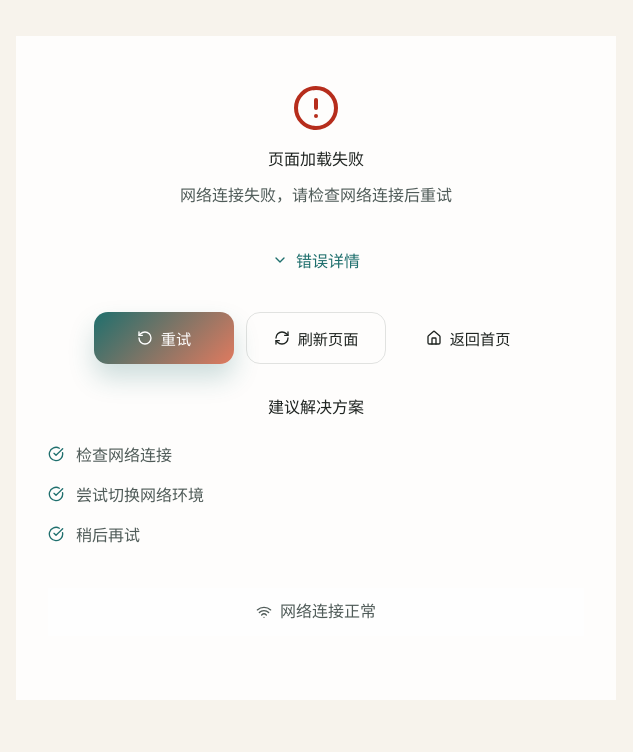
Test case: ModuleLoadErrorPage › Error Details › should toggle details content when clicked
The image size is (633, 752).
// Click to show
Click the button with class "module-load-error-page__details-toggle": (316,260) [48,240,584,280]
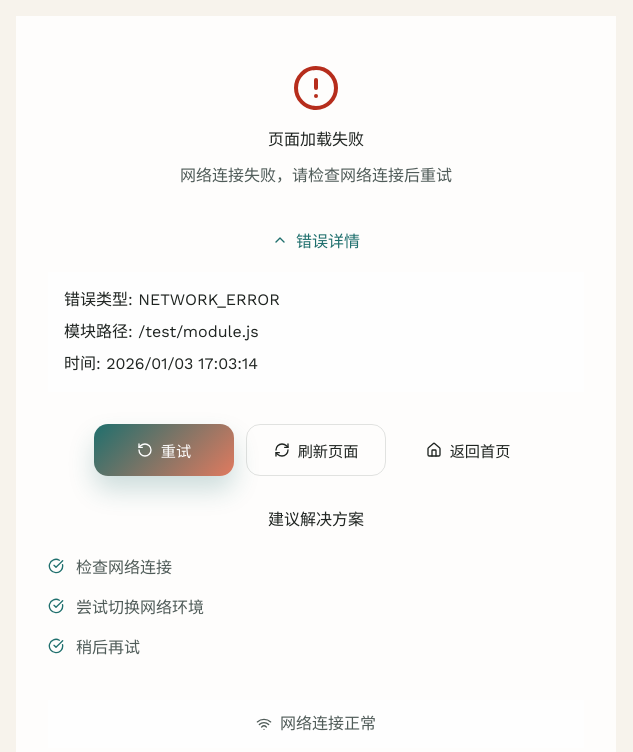
Result: the element with class "module-load-error-page__details-content" is shown at [48,272,584,392]
